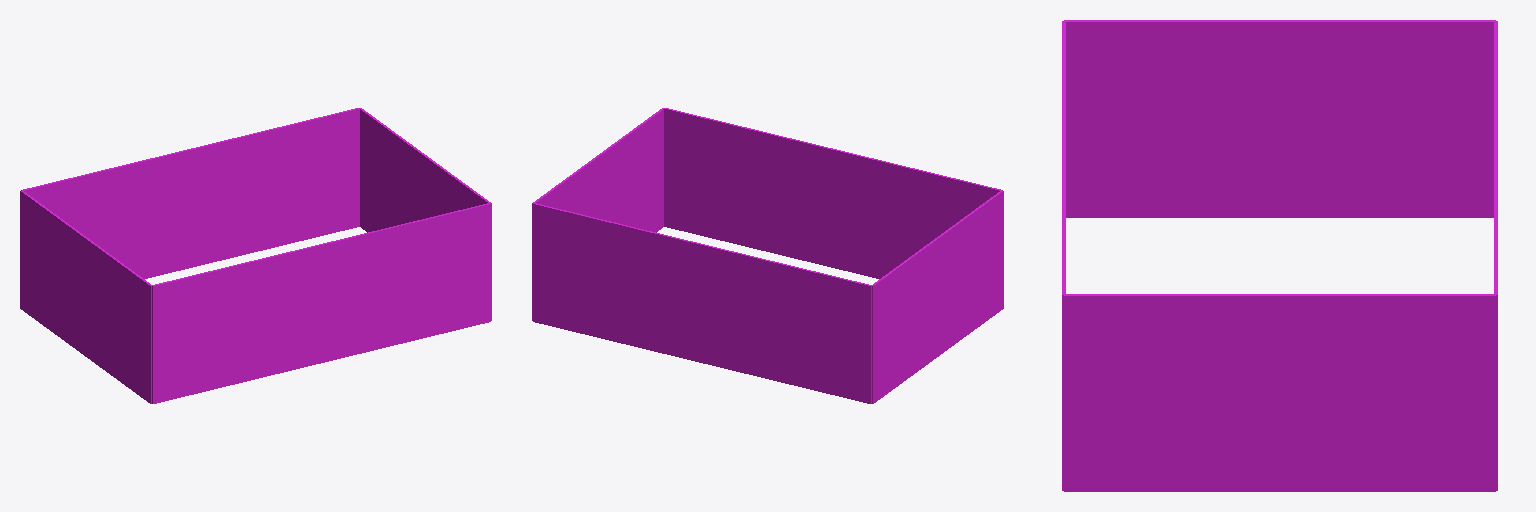
The robot description file, URDF, robot "walls":
<?xml version="1.0"?>
<robot name="walls">
  <material name="wallmat">
    <color rgba="0.9 0.2 0.9 1"/>
  </material>

  <link name="origin">
    <inertial>
      <origin rpy="0 0 0" xyz="0 0 0"/>
      <mass value="0"/>
      <inertia ixx="0" ixy="0" ixz="0" iyy="0" iyz="0" izz="0"/>
    </inertial>
  </link>

  <link name="xpos">
    <inertial>
      <origin rpy="0 0 0" xyz="0 0 0"/>
      <mass value="0"/>
      <inertia ixx="0" ixy="0" ixz="0" iyy="0" iyz="0" izz="0"/>
    </inertial>
    <visual>
      <origin rpy="0 0 0" xyz="0.75 0.0 0.25"/>
      <geometry>
        <box size="0.01 1 0.5"/>
      </geometry>
      <material name="wallmat"/>
    </visual>
    <collision>
      <origin rpy="0 0 0" xyz="0.75 0.0 0.25"/>
      <geometry>
        <box size="0.01 1 0.5"/>
      </geometry>
    </collision>
  </link>

  <link name="xneg">
    <inertial>
      <origin rpy="0 0 0" xyz="0 0 0"/>
      <mass value="0"/>
      <inertia ixx="0" ixy="0" ixz="0" iyy="0" iyz="0" izz="0"/>
    </inertial>
    <visual>
      <origin rpy="0 0 0" xyz="-0.75 0.0 0.25"/>
      <geometry>
        <box size="0.01 1 0.5"/>
      </geometry>
      <material name="wallmat"/>
    </visual>
    <collision>
      <origin rpy="0 0 0" xyz="-0.75 0.0 0.25"/>
      <geometry>
        <box size="0.01 1 0.5"/>
      </geometry>
    </collision>
  </link>

  <link name="ypos">
    <inertial>
      <origin rpy="0 0 0" xyz="0 0 0"/>
      <mass value="0"/>
      <inertia ixx="0" ixy="0" ixz="0" iyy="0" iyz="0" izz="0"/>
    </inertial>
    <visual>
      <origin rpy="0 0 0" xyz="0.0 0.5 0.25"/>
      <geometry>
        <box size="1.5 0.01 0.5"/>
      </geometry>
      <material name="wallmat"/>
    </visual>
    <collision>
      <origin rpy="0 0 0" xyz="0.0 0.5 0.25"/>
      <geometry>
        <box size="1.5 0.01 0.5"/>
      </geometry>
    </collision>
  </link>

  <link name="yneg">
    <inertial>
      <origin rpy="0 0 0" xyz="0 0 0"/>
      <mass value="0"/>
      <inertia ixx="0" ixy="0" ixz="0" iyy="0" iyz="0" izz="0"/>
    </inertial>
    <visual>
      <origin rpy="0 0 0" xyz="0.0 -0.5 0.25"/>
      <geometry>
        <box size="1.5 0.01 0.5"/>
      </geometry>
      <material name="wallmat"/>
    </visual>
    <collision>
      <origin rpy="0 0 0" xyz="0.0 -0.5 0.25"/>
      <geometry>
        <box size="1.5 0.01 0.5"/>
      </geometry>
    </collision>
  </link>

  <joint name="xpos_j" type="fixed">
    <parent link="origin"/>
    <child link="xpos"/>
  </joint>

  <joint name="xneg_j" type="fixed">
    <parent link="origin"/>
    <child link="xneg"/>
  </joint>

  <joint name="ypos_j" type="fixed">
    <parent link="origin"/>
    <child link="ypos"/>
  </joint>

  <joint name="yneg_j" type="fixed">
    <parent link="origin"/>
    <child link="yneg"/>
  </joint>
  
</robot>

--- Render facts (derived) ---
The picture shows the robot from 3 angles, left to right: view 1: azimuth 30°, elevation 25°; view 2: azimuth 150°, elevation 25°; view 3: azimuth 270°, elevation 25°; orthographic projection.
Robot: walls — 5 links, 4 joints (4 fixed); root link origin; default pose: every joint at zero.
Links seen in each view (by area): view 1: yneg, ypos, xneg, xpos; view 2: ypos, yneg, xneg, xpos; view 3: xpos, xneg, yneg, ypos.
Boxes of the visible links, left/top/right/bottom form: yneg: left=152, top=203, right=490, bottom=403; ypos: left=21, top=108, right=359, bottom=278; xneg: left=20, top=190, right=152, bottom=403; xpos: left=360, top=108, right=491, bottom=320; ypos: left=533, top=203, right=871, bottom=403; yneg: left=664, top=108, right=1002, bottom=278; xneg: left=871, top=190, right=1003, bottom=403; xpos: left=532, top=108, right=664, bottom=320; xpos: left=1064, top=294, right=1495, bottom=491; xneg: left=1064, top=20, right=1495, bottom=217; yneg: left=1062, top=21, right=1065, bottom=490; ypos: left=1494, top=21, right=1497, bottom=490.
Size in the robot's own frame: 1.51 by 1.01 by 0.5 metres.
Geometry: primitives only (box / cylinder / sphere), no mesh files.
